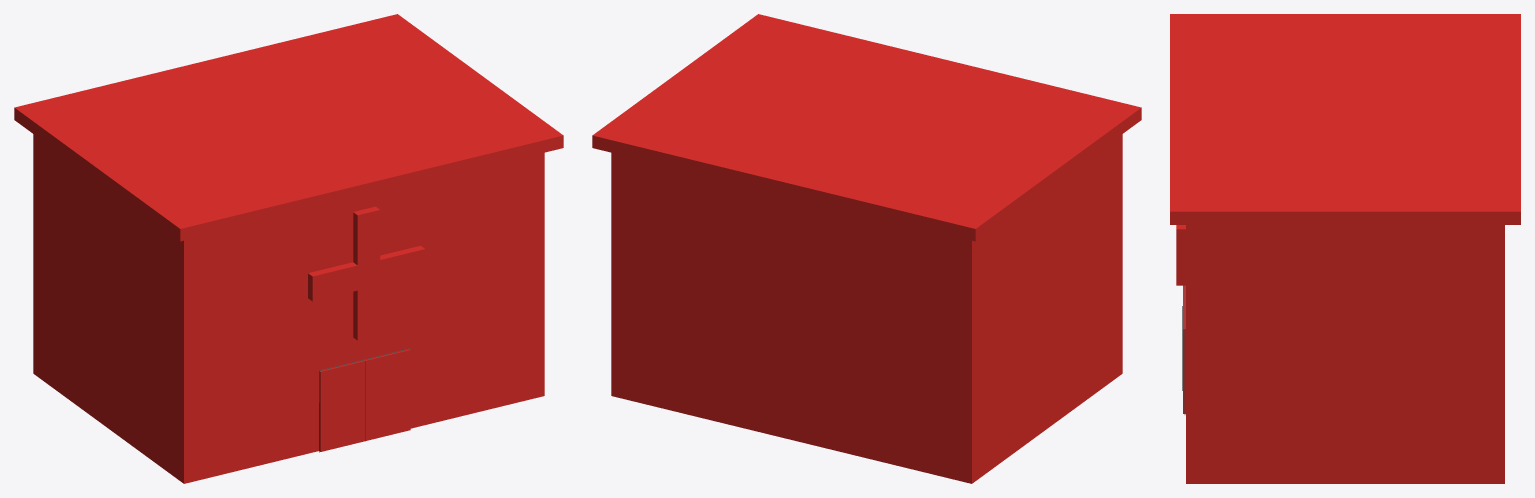
The model's file is Hospital.fbx.
The picture shows the model from 3 angles, left to right: view 1: azimuth 30°, elevation 25°; view 2: azimuth 150°, elevation 25°; view 3: azimuth 270°, elevation 25°; orthographic projection. The views are drawn at different scales.
Visible parts, largest first — view 1: Hospital; view 2: Hospital; view 3: Hospital.
Boxes of the visible parts, x1,y1,x2,y2 form: Hospital: [14, 14, 563, 483]; Hospital: [592, 14, 1141, 483]; Hospital: [1170, 14, 1520, 483].
Size of the model in its own units: 1600 by 1054 by 1200.
